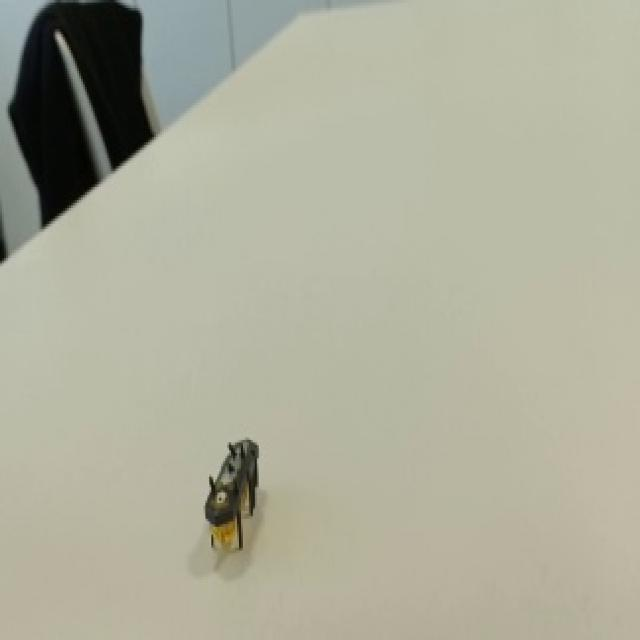6_NanoBug_GrisOscuro: (182, 434, 275, 546)
